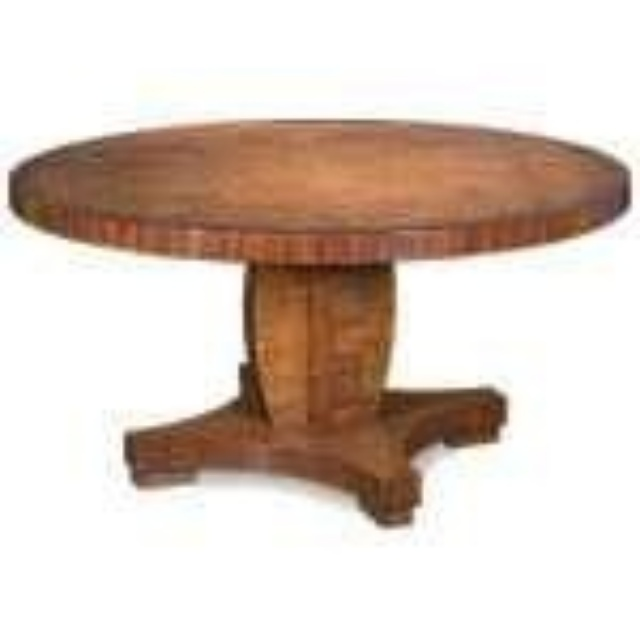obstacle: (9, 119, 627, 521)
